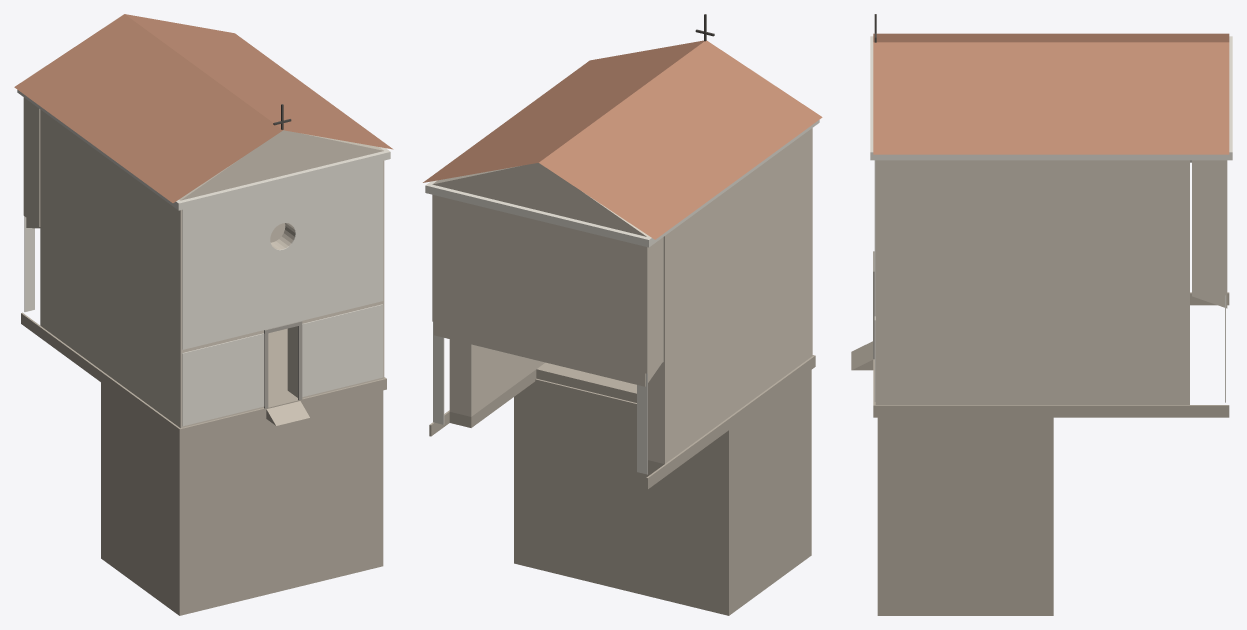
The model's file is chapel_exterior.glb.
The picture shows the model from 3 angles, left to right: view 1: azimuth 30°, elevation 25°; view 2: azimuth 150°, elevation 25°; view 3: azimuth 270°, elevation 25°; orthographic projection. The views are drawn at different scales.
Parts seen in each view (by area): view 1: crypt_foundation_skirt_front, crypt_roof, crypt_wall_side_left, crypt_facade_cladding_upper, crypt_facade_cladding_left, crypt_facade_cladding_right, crypt_pediment, crypt_plinth_front, crypt_cornice, crypt_wall_back_upper, crypt_wall_front_right, crypt_pilaster_2 (+4 smaller); view 2: crypt_foundation_skirt_front, crypt_roof, crypt_wall_side_left, crypt_wall_back_upper, crypt_pediment, crypt_wall_side_right, crypt_cornice, crypt_wall_back_header, crypt_plinth_front, crypt_pilaster_3, crypt_plinth_r, crypt_plinth_l (+1 smaller); view 3: crypt_wall_side_right, crypt_roof, crypt_foundation_skirt_front, crypt_wall_back_upper, crypt_cornice, crypt_plinth_front, crypt_plinth_r, crypt_door_threshold, crypt_plinth_back_r.
Boxes of the visible parts, bbox=[...] form: crypt_foundation_skirt_front: bbox=[101, 382, 383, 615]; crypt_roof: bbox=[14, 14, 393, 202]; crypt_wall_side_left: bbox=[40, 109, 200, 428]; crypt_facade_cladding_upper: bbox=[182, 161, 383, 349]; crypt_facade_cladding_left: bbox=[182, 333, 264, 426]; crypt_facade_cladding_right: bbox=[302, 304, 383, 396]; crypt_pediment: bbox=[179, 130, 383, 200]; crypt_plinth_front: bbox=[100, 328, 386, 439]; crypt_cornice: bbox=[17, 90, 390, 210]; crypt_wall_back_upper: bbox=[23, 97, 40, 226]; crypt_wall_front_right: bbox=[287, 307, 363, 398]; crypt_pilaster_2: bbox=[24, 216, 34, 311]; crypt_foundation_skirt_front: bbox=[514, 370, 811, 615]; crypt_roof: bbox=[423, 40, 822, 239]; crypt_wall_side_left: bbox=[648, 128, 812, 463]; crypt_wall_back_upper: bbox=[432, 194, 663, 373]; crypt_pediment: bbox=[432, 163, 648, 236]; crypt_wall_side_right: bbox=[449, 339, 545, 416]; crypt_cornice: bbox=[425, 120, 819, 247]; crypt_wall_back_header: bbox=[434, 322, 661, 386]; crypt_plinth_front: bbox=[536, 355, 815, 427]; crypt_pilaster_3: bbox=[433, 321, 444, 424]; crypt_plinth_r: bbox=[448, 369, 536, 427]; crypt_plinth_l: bbox=[648, 416, 731, 475]; crypt_wall_side_right: bbox=[875, 160, 1189, 404]; crypt_roof: bbox=[873, 33, 1229, 154]; crypt_foundation_skirt_front: bbox=[877, 417, 1053, 615]; crypt_wall_back_upper: bbox=[1192, 160, 1227, 295]; crypt_cornice: bbox=[870, 36, 1232, 160]; crypt_plinth_front: bbox=[873, 359, 1051, 417]; crypt_plinth_r: bbox=[1051, 405, 1189, 417]; crypt_door_threshold: bbox=[851, 341, 873, 370]; crypt_plinth_back_r: bbox=[1190, 405, 1229, 417].
Bounding box in the file's own units: 6.5 × 13.7 × 8.67.
